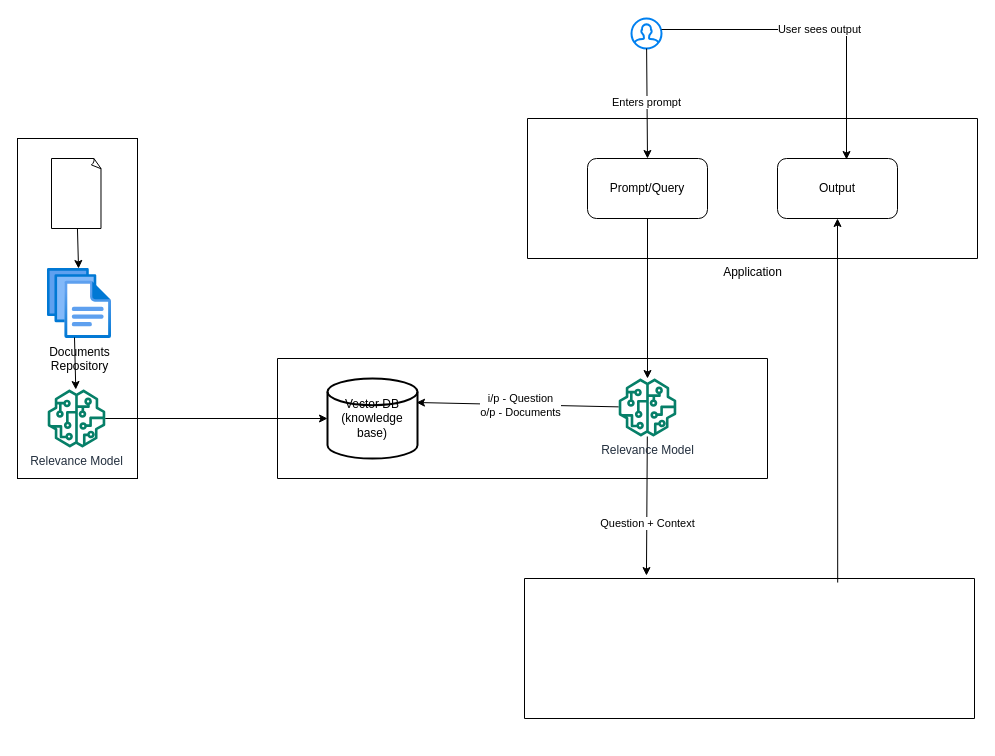
Some shapes in this 995 by 756 pixel diagram are drawn without their labels. Here are the shapes that lost their labels. From the top down, the centre of each, then its label:
At (646,33): "User".
At (76,193): "New data".
At (749,648): "Foundational Model".
